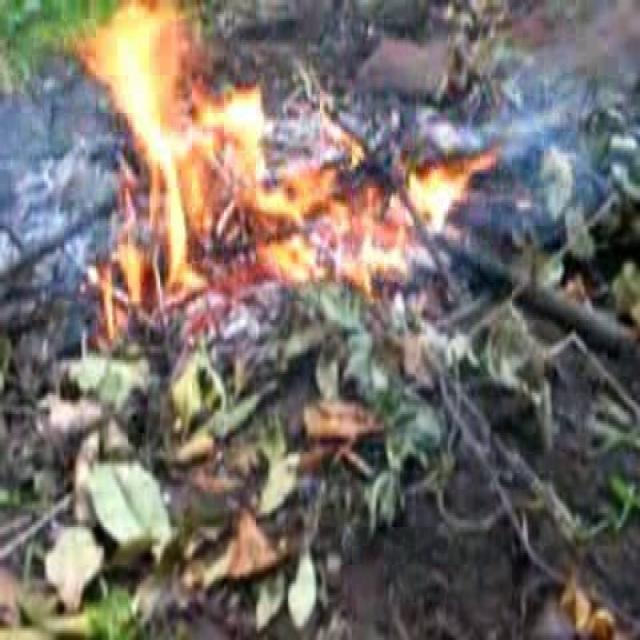Fire: (88, 14, 209, 206)
